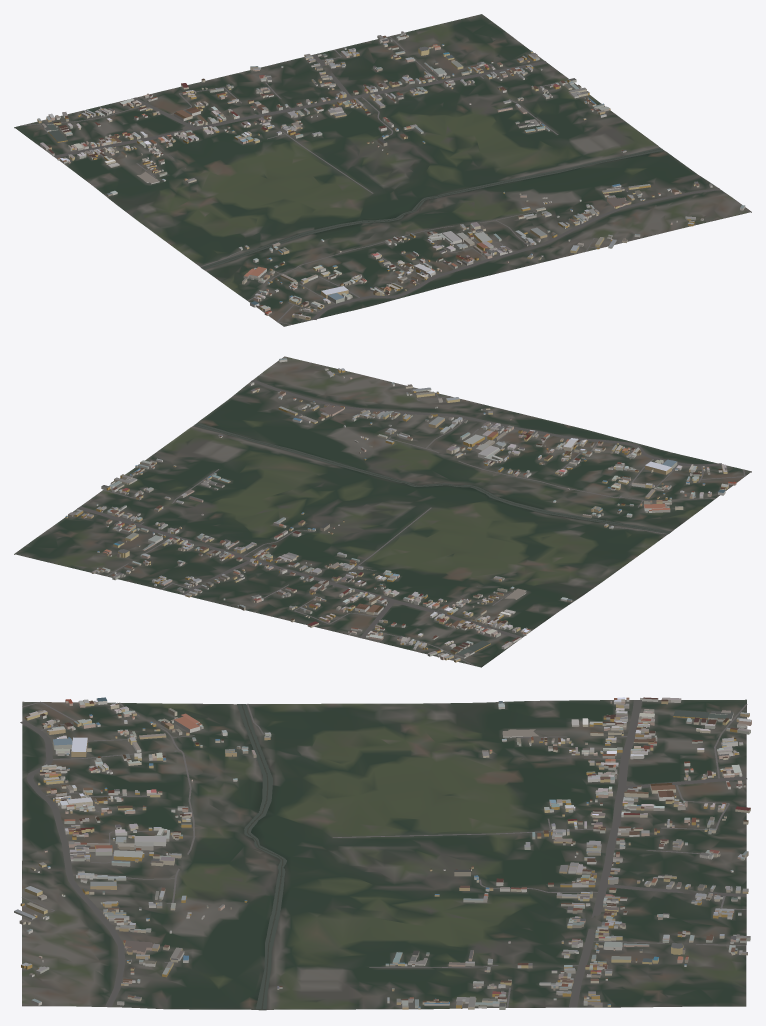
3 renders of one model, top to bottom at view 1: azimuth 30°, elevation 25°; view 2: azimuth 150°, elevation 25°; view 3: azimuth 270°, elevation 25°, orthographic. The views are drawn at different scales.
Visible parts, largest first — view 1: ground, buildings, roads, water; view 2: ground, buildings, roads, water; view 3: ground, buildings, roads, water.
Part boxes in pixels (x1,y1,x2,y2): ground: (14, 14, 751, 326); buildings: (37, 31, 745, 319); roads: (20, 36, 720, 324); water: (201, 147, 663, 269); ground: (14, 356, 751, 667); buildings: (65, 358, 736, 662); roads: (77, 379, 745, 665); water: (194, 423, 671, 533); ground: (22, 699, 746, 1010); buildings: (14, 697, 751, 1009); roads: (20, 700, 747, 1007); water: (237, 704, 286, 1009).
Bounding box in the file's own units: 1416 × 23.77 × 1427.
